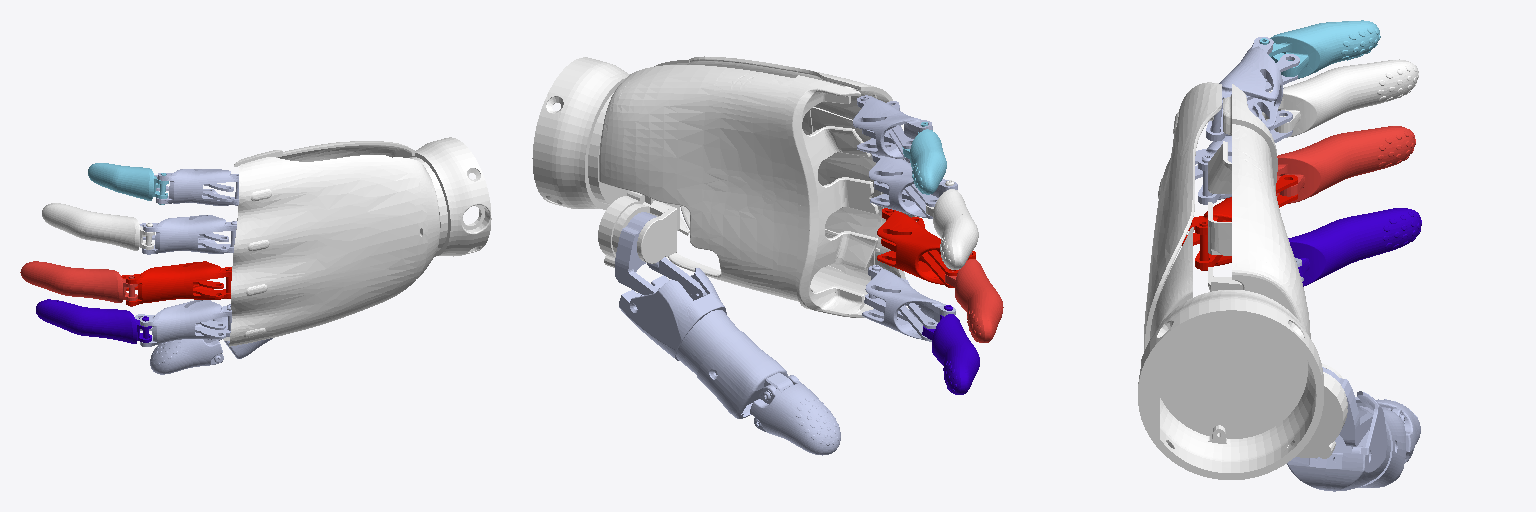
robot.urdf — urdf_v2:
<?xml version="1.0" encoding="utf-8"?>
<!-- This URDF was automatically created by SolidWorks to URDF Exporter! Originally created by [author] ([email redacted]) 
     Commit Version: 1.6.0-4-g7f85cfe  Build Version: 1.6.7995.38578
     For more information, please see http://wiki.ros.org/sw_urdf_exporter -->
<robot
  name="urdf_v2">
  <link
    name="base_link">
    <inertial>
      <origin
        xyz="0.0282680334155116 -0.00155312878370573 0.0090688183026775"
        rpy="0 0 0" />
      <mass
        value="0.0410424762542632" />
      <inertia
        ixx="1.67808110422422E-05"
        ixy="-1.38161155616436E-06"
        ixz="2.77639403016102E-07"
        iyy="1.59956087599769E-05"
        iyz="-2.84757118052629E-07"
        izz="2.62608804201258E-05" />
    </inertial>
    <visual>
      <origin
        xyz="0 0 0"
        rpy="0 0 0" />
      <geometry>
        <mesh
          filename="package://urdf_v2/meshes/base_link.STL" />
      </geometry>
      <material
        name="">
        <color
          rgba="1 1 1 1" />
      </material>
    </visual>
    <collision>
      <origin
        xyz="0 0 0"
        rpy="0 0 0" />
      <geometry>
        <mesh
          filename="package://urdf_v2/meshes/base_link.STL" />
      </geometry>
    </collision>
  </link>
  <link
    name="ff_proximal_link">
    <inertial>
      <origin
        xyz="-0.015386 -0.0066062 -0.0079647"
        rpy="0 0 0" />
      <mass
        value="0.0018523" />
      <inertia
        ixx="8.5863E-08"
        ixy="-4.71E-09"
        ixz="-4.397E-08"
        iyy="1.886E-07"
        iyz="-2.9657E-09"
        izz="1.808E-07" />
    </inertial>
    <visual>
      <origin
        xyz="0 0 0"
        rpy="0 0 0" />
      <geometry>
        <mesh
          filename="package://urdf_v2/meshes/ff_proximal_link.STL" />
      </geometry>
      <material
        name="">
        <color
          rgba="0.79216 0.81961 0.93333 1" />
      </material>
    </visual>
    <collision>
      <origin
        xyz="0 0 0"
        rpy="0 0 0" />
      <geometry>
        <mesh
          filename="package://urdf_v2/meshes/ff_proximal_link.STL" />
      </geometry>
    </collision>
  </link>
  <joint
    name="ff_proximal_joint"
    type="revolute">
    <origin
      xyz="-0.03826 -0.011678 -0.023531"
      rpy="1.5708 0 0" />
    <parent
      link="base_link" />
    <child
      link="ff_proximal_link" />
    <axis
      xyz="0 1 0" />
    <limit
      lower="-1.23"
      upper="0.34"
      effort="50"
      velocity="1" />
  </joint>
  <link
    name="ff_distal_link">
    <inertial>
      <origin
        xyz="-0.0136744559671081 -0.00546355961032156 -0.0194579532929323"
        rpy="0 0 0" />
      <mass
        value="0.00411870576106074" />
      <inertia
        ixx="3.84711901595296E-07"
        ixy="6.16480172234882E-09"
        ixz="-2.5005841513438E-07"
        iyy="5.74190965189268E-07"
        iyz="6.30974065938001E-09"
        izz="2.65068505295533E-07" />
    </inertial>
    <visual>
      <origin
        xyz="0 0 0"
        rpy="0 0 0" />
      <geometry>
        <mesh
          filename="package://urdf_v2/meshes/ff_distal_link.STL" />
      </geometry>
      <material
        name="">
        <color
          rgba="0.282352941176471 0.0313725490196078 0.815686274509804 1" />
      </material>
    </visual>
    <collision>
      <origin
        xyz="0 0 0"
        rpy="0 0 0" />
      <geometry>
        <mesh
          filename="package://urdf_v2/meshes/ff_distal_link.STL" />
      </geometry>
    </collision>
  </link>
  <joint
    name="ff_distal_joint"
    type="revolute">
    <origin
      xyz="-0.033944 -0.0018093 -0.011608"
      rpy="0 0 0" />
    <parent
      link="ff_proximal_link" />
    <child
      link="ff_distal_link" />
    <axis
      xyz="0 1 0" />
    <limit
      lower="-1.23"
      upper="0.34"
      effort="50"
      velocity="1" />
  </joint>
  <link
    name="lf_proximal_link">
    <inertial>
      <origin
        xyz="-0.0146092609512682 -0.0055508873917868 -0.00670762165904373"
        rpy="0 0 0" />
      <mass
        value="0.00164259183850072" />
      <inertia
        ixx="7.83650178895857E-08"
        ixy="4.1832976450397E-09"
        ixz="-3.3038131625674E-08"
        iyy="1.37775200510857E-07"
        iyz="3.38529940940638E-09"
        izz="1.31770538978944E-07" />
    </inertial>
    <visual>
      <origin
        xyz="0 0 0"
        rpy="0 0 0" />
      <geometry>
        <mesh
          filename="package://urdf_v2/meshes/lf_proximal_link.STL" />
      </geometry>
      <material
        name="">
        <color
          rgba="0.792156862745098 0.819607843137255 0.933333333333333 1" />
      </material>
    </visual>
    <collision>
      <origin
        xyz="0 0 0"
        rpy="0 0 0" />
      <geometry>
        <mesh
          filename="package://urdf_v2/meshes/lf_proximal_link.STL" />
      </geometry>
    </collision>
  </link>
  <joint
    name="lf_proximal_joint"
    type="revolute">
    <origin
      xyz="-0.033769 -0.011577 0.037146"
      rpy="1.5708 0 0" />
    <parent
      link="base_link" />
    <child
      link="lf_proximal_link" />
    <axis
      xyz="0 1 0" />
    <limit
      lower="-1.23"
      upper="0.34"
      effort="50"
      velocity="1" />
  </joint>
  <link
    name="lf_distal_link">
    <inertial>
      <origin
        xyz="-0.00921516331063749 -0.00657933694076938 -0.0137060475387422"
        rpy="0 0 0" />
      <mass
        value="0.00258549281540904" />
      <inertia
        ixx="1.24448167729541E-07"
        ixy="-7.90147373548682E-10"
        ixz="-5.47338391191158E-08"
        iyy="1.5333214661181E-07"
        iyz="4.20352585186048E-10"
        izz="7.16963433808903E-08" />
    </inertial>
    <visual>
      <origin
        xyz="0 0 0"
        rpy="0 0 0" />
      <geometry>
        <mesh
          filename="package://urdf_v2/meshes/lf_distal_link.STL" />
      </geometry>
      <material
        name="">
        <color
          rgba="0.576470588235294 0.850980392156863 0.945098039215686 1" />
      </material>
    </visual>
    <collision>
      <origin
        xyz="0 0 0"
        rpy="0 0 0" />
      <geometry>
        <mesh
          filename="package://urdf_v2/meshes/lf_distal_link.STL" />
      </geometry>
    </collision>
  </link>
  <joint
    name="lf_distal_joint"
    type="revolute">
    <origin
      xyz="-0.029536 0.0024174 -0.01189"
      rpy="0 0 0" />
    <parent
      link="lf_proximal_link" />
    <child
      link="lf_distal_link" />
    <axis
      xyz="0 1 0" />
    <limit
      lower="-1.23"
      upper="0.34"
      effort="50"
      velocity="1" />
  </joint>
  <link
    name="mf_proximal_link">
    <inertial>
      <origin
        xyz="-0.0177059315083575 -0.0068574882263558 -0.00949570438060691"
        rpy="0 0 0" />
      <mass
        value="0.00222072837890887" />
      <inertia
        ixx="1.18469806234159E-07"
        ixy="-2.169203589617E-09"
        ixz="-7.66611865960727E-08"
        iyy="2.82300078965434E-07"
        iyz="-1.01552906952095E-09"
        izz="2.55439925655879E-07" />
    </inertial>
    <visual>
      <origin
        xyz="0 0 0"
        rpy="0 0 0" />
      <geometry>
        <mesh
          filename="package://urdf_v2/meshes/mf_proximal_link.STL" />
      </geometry>
      <material
        name="">
        <color
          rgba="0.913725490196078 0.109803921568627 0.0313725490196078 1" />
      </material>
    </visual>
    <collision>
      <origin
        xyz="0 0 0"
        rpy="0 0 0" />
      <geometry>
        <mesh
          filename="package://urdf_v2/meshes/mf_proximal_link.STL" />
      </geometry>
    </collision>
  </link>
  <joint
    name="mf_proximal_joint"
    type="revolute">
    <origin
      xyz="-0.041118 -0.015454 -0.0028912"
      rpy="1.5708 0 0" />
    <parent
      link="base_link" />
    <child
      link="mf_proximal_link" />
    <axis
      xyz="0 1 0" />
    <limit
      lower="-1.23"
      upper="0.34"
      effort="50"
      velocity="1" />
  </joint>
  <link
    name="mf_distal_link">
    <inertial>
      <origin
        xyz="-0.0143449599107263 -0.0068015916660648 -0.0187410189605281"
        rpy="0 0 0" />
      <mass
        value="0.00411871594900483" />
      <inertia
        ixx="3.77681695290248E-07"
        ixy="-2.6050362803194E-09"
        ixz="-2.51747092435786E-07"
        iyy="5.74182941173459E-07"
        iyz="-3.33591966287697E-09"
        izz="2.72077516511856E-07" />
    </inertial>
    <visual>
      <origin
        xyz="0 0 0"
        rpy="0 0 0" />
      <geometry>
        <mesh
          filename="package://urdf_v2/meshes/mf_distal_link.STL" />
      </geometry>
      <material
        name="">
        <color
          rgba="0.917647058823529 0.305882352941176 0.274509803921569 1" />
      </material>
    </visual>
    <collision>
      <origin
        xyz="0 0 0"
        rpy="0 0 0" />
      <geometry>
        <mesh
          filename="package://urdf_v2/meshes/mf_distal_link.STL" />
      </geometry>
    </collision>
  </link>
  <joint
    name="mf_distal_joint"
    type="revolute">
    <origin
      xyz="-0.038289 -0.00050707 -0.014673"
      rpy="0 0 0" />
    <parent
      link="mf_proximal_link" />
    <child
      link="mf_distal_link" />
    <axis
      xyz="0 1 0" />
    <limit
      lower="-1.23"
      upper="0.34"
      effort="50"
      velocity="1" />
  </joint>
  <link
    name="rf_proximal_link">
    <inertial>
      <origin
        xyz="-0.0159574731093167 -0.00508699297495175 -0.00788653991870907"
        rpy="0 0 0" />
      <mass
        value="0.00185229291559554" />
      <inertia
        ixx="8.87960405276781E-08"
        ixy="5.65163102187985E-09"
        ixz="-4.67021204809698E-08"
        iyy="1.8840957230307E-07"
        iyz="2.64384772912068E-09"
        izz="1.78055276074851E-07" />
    </inertial>
    <visual>
      <origin
        xyz="0 0 0"
        rpy="0 0 0" />
      <geometry>
        <mesh
          filename="package://urdf_v2/meshes/rf_proximal_link.STL" />
      </geometry>
      <material
        name="">
        <color
          rgba="0.792156862745098 0.819607843137255 0.933333333333333 1" />
      </material>
    </visual>
    <collision>
      <origin
        xyz="0 0 0"
        rpy="0 0 0" />
      <geometry>
        <mesh
          filename="package://urdf_v2/meshes/rf_proximal_link.STL" />
      </geometry>
    </collision>
  </link>
  <joint
    name="rf_proximal_joint"
    type="revolute">
    <origin
      xyz="-0.037956 -0.014704 0.016541"
      rpy="1.5708 0 0" />
    <parent
      link="base_link" />
    <child
      link="rf_proximal_link" />
    <axis
      xyz="0 1 0" />
    <limit
      lower="-1.23"
      upper="0.34"
      effort="50"
      velocity="1" />
  </joint>
  <link
    name="rf_distal_link">
    <inertial>
      <origin
        xyz="-0.0132013672271961 -0.00525332333018323 -0.0198360245917965"
        rpy="0 0 0" />
      <mass
        value="0.00411813438505178" />
      <inertia
        ixx="4.17567964091139E-07"
        ixy="8.83792091169937E-09"
        ixz="-2.39623187984756E-07"
        iyy="5.73527691798747E-07"
        iyz="1.35350117823584E-08"
        izz="2.3247215276718E-07" />
    </inertial>
    <visual>
      <origin
        xyz="0 0 0"
        rpy="0 0 0" />
      <geometry>
        <mesh
          filename="package://urdf_v2/meshes/rf_distal_link.STL" />
      </geometry>
      <material
        name="">
        <color
          rgba="1 1 1 1" />
      </material>
    </visual>
    <collision>
      <origin
        xyz="0 0 0"
        rpy="0 0 0" />
      <geometry>
        <mesh
          filename="package://urdf_v2/meshes/rf_distal_link.STL" />
      </geometry>
    </collision>
  </link>
  <joint
    name="rf_distal_joint"
    type="revolute">
    <origin
      xyz="-0.03359 0.0018994 -0.012583"
      rpy="0 0 0" />
    <parent
      link="rf_proximal_link" />
    <child
      link="rf_distal_link" />
    <axis
      xyz="0 1 0" />
    <limit
      lower="-1.23"
      upper="0.34"
      effort="50"
      velocity="1" />
  </joint>
  <link
    name="th_link_1">
    <inertial>
      <origin
        xyz="0.00270659292318193 -0.00468066434180406 -0.00150236387262136"
        rpy="0 0 0" />
      <mass
        value="0.00211540567417261" />
      <inertia
        ixx="1.7524535629557E-07"
        ixy="-5.50208752881828E-08"
        ixz="-4.43809324813235E-09"
        iyy="1.42495552210395E-07"
        iyz="-2.42530529882035E-08"
        izz="1.70635228042348E-07" />
    </inertial>
    <visual>
      <origin
        xyz="0 0 0"
        rpy="0 0 0" />
      <geometry>
        <mesh
          filename="package://urdf_v2/meshes/th_link_1.STL" />
      </geometry>
      <material
        name="">
        <color
          rgba="0.792156862745098 0.819607843137255 0.933333333333333 1" />
      </material>
    </visual>
    <collision>
      <origin
        xyz="0 0 0"
        rpy="0 0 0" />
      <geometry>
        <mesh
          filename="package://urdf_v2/meshes/th_link_1.STL" />
      </geometry>
    </collision>
  </link>
  <joint
    name="th_joint_1"
    type="revolute">
    <origin
      xyz="0.028856 0.014535 -0.018759"
      rpy="1.5708 0 0" />
    <parent
      link="base_link" />
    <child
      link="th_link_1" />
    <axis
      xyz="1 0 0" />
    <limit
      lower="-0.34"
      upper="1.571"
      effort="50"
      velocity="1" />
  </joint>
  <link
    name="th_link_2">
    <inertial>
      <origin
        xyz="-0.00834633647940502 -0.00790061639194979 -0.0025612163065322"
        rpy="0 0 0" />
      <mass
        value="0.0066634254339578" />
      <inertia
        ixx="4.79987278390943E-07"
        ixy="2.81861563990933E-11"
        ixz="-4.91467867848404E-07"
        iyy="2.21316128962266E-06"
        iyz="-8.06170404221075E-11"
        izz="1.8860706671632E-06" />
    </inertial>
    <visual>
      <origin
        xyz="0 0 0"
        rpy="0 0 0" />
      <geometry>
        <mesh
          filename="package://urdf_v2/meshes/th_link_2.STL" />
      </geometry>
      <material
        name="">
        <color
          rgba="0.792156862745098 0.819607843137255 0.933333333333333 1" />
      </material>
    </visual>
    <collision>
      <origin
        xyz="0 0 0"
        rpy="0 0 0" />
      <geometry>
        <mesh
          filename="package://urdf_v2/meshes/th_link_2.STL" />
      </geometry>
    </collision>
  </link>
  <joint
    name="th_joint_2"
    type="revolute">
    <origin
      xyz="-0.013434 -0.026438 -0.014086"
      rpy="-1.5678 -0.21839 -0.00065226" />
    <parent
      link="th_link_1" />
    <child
      link="th_link_2" />
    <axis
      xyz="0 1 0" />
    <limit
      lower="0.0"
      upper="0.34"
      effort="50"
      velocity="1" />
  </joint>
  <link
    name="th_link_3">
    <inertial>
      <origin
        xyz="-0.0213045047900868 -0.00350583745128136 0.000499870962888962"
        rpy="0 0 0" />
      <mass
        value="0.00503417004238488" />
      <inertia
        ixx="1.99445023591198E-07"
        ixy="1.59270498707835E-12"
        ixz="-5.81633739950867E-08"
        iyy="2.35221266539737E-07"
        iyz="-1.81601613420279E-12"
        izz="2.67880566003001E-07" />
    </inertial>
    <visual>
      <origin
        xyz="0 0 0"
        rpy="0 0 0" />
      <geometry>
        <mesh
          filename="package://urdf_v2/meshes/th_link_3.STL" />
      </geometry>
      <material
        name="">
        <color
          rgba="0.792156862745098 0.819607843137255 0.933333333333333 1" />
      </material>
    </visual>
    <collision>
      <origin
        xyz="0 0 0"
        rpy="0 0 0" />
      <geometry>
        <mesh
          filename="package://urdf_v2/meshes/th_link_3.STL" />
      </geometry>
    </collision>
  </link>
  <joint
    name="th_joint_3"
    type="revolute">
    <origin
      xyz="-0.028136 -0.0044434 -0.01595"
      rpy="0 0 0" />
    <parent
      link="th_link_2" />
    <child
      link="th_link_3" />
    <axis
      xyz="0 1 0" />
    <limit
      lower="0.0"
      upper="0.34"
      effort="50"
      velocity="1" />
  </joint>
</robot>

--- Render facts (derived) ---
The picture shows the robot from 3 angles, left to right: view 1: azimuth 30°, elevation 25°; view 2: azimuth 150°, elevation 25°; view 3: azimuth 270°, elevation 25°; orthographic projection.
Model urdf_v2 with 12 links and 11 joints (11 revolute), rooted at base_link, posed every joint at zero.
Links seen in each view (by area): view 1: base_link, mf_proximal_link, mf_distal_link, ff_distal_link, rf_distal_link, ff_proximal_link, rf_proximal_link, lf_proximal_link, th_link_3, lf_distal_link; view 2: base_link, th_link_2, th_link_3, ff_proximal_link, mf_proximal_link, lf_proximal_link, mf_distal_link, rf_proximal_link, ff_distal_link, rf_distal_link, th_link_1, lf_distal_link; view 3: base_link, rf_distal_link, mf_distal_link, th_link_2, ff_distal_link, lf_distal_link, lf_proximal_link, mf_proximal_link, rf_proximal_link, th_link_1, th_link_3.
Link boxes in pixels (x1,y1,x2,y2): base_link: [223, 137, 491, 346]; mf_proximal_link: [121, 261, 231, 305]; mf_distal_link: [20, 261, 137, 306]; ff_distal_link: [36, 299, 151, 343]; rf_distal_link: [42, 203, 154, 250]; ff_proximal_link: [135, 300, 231, 346]; rf_proximal_link: [140, 215, 236, 254]; lf_proximal_link: [154, 169, 238, 205]; th_link_3: [150, 339, 223, 374]; lf_distal_link: [88, 163, 168, 204]; base_link: [532, 56, 919, 317]; th_link_2: [619, 268, 793, 418]; th_link_3: [750, 375, 840, 455]; ff_proximal_link: [862, 265, 955, 341]; mf_proximal_link: [877, 208, 975, 287]; lf_proximal_link: [853, 95, 932, 160]; mf_distal_link: [945, 252, 1003, 342]; rf_proximal_link: [869, 154, 957, 218]; ff_distal_link: [922, 305, 979, 394]; rf_distal_link: [926, 180, 978, 269]; th_link_1: [615, 212, 707, 298]; lf_distal_link: [902, 122, 946, 194]; base_link: [1138, 82, 1347, 479]; rf_distal_link: [1262, 59, 1418, 137]; mf_distal_link: [1276, 126, 1415, 203]; th_link_2: [1287, 391, 1405, 491]; ff_distal_link: [1288, 208, 1421, 286]; lf_distal_link: [1260, 20, 1380, 78]; lf_proximal_link: [1206, 37, 1299, 141]; mf_proximal_link: [1182, 175, 1297, 270]; rf_proximal_link: [1195, 110, 1292, 204]; th_link_1: [1322, 367, 1372, 447]; th_link_3: [1376, 399, 1420, 462].
Bounding box of the posed robot: 0.1856 × 0.0748 × 0.111 m (x, y, z).
12 mesh visuals loaded from 12 distinct referenced files (12 binary STL).